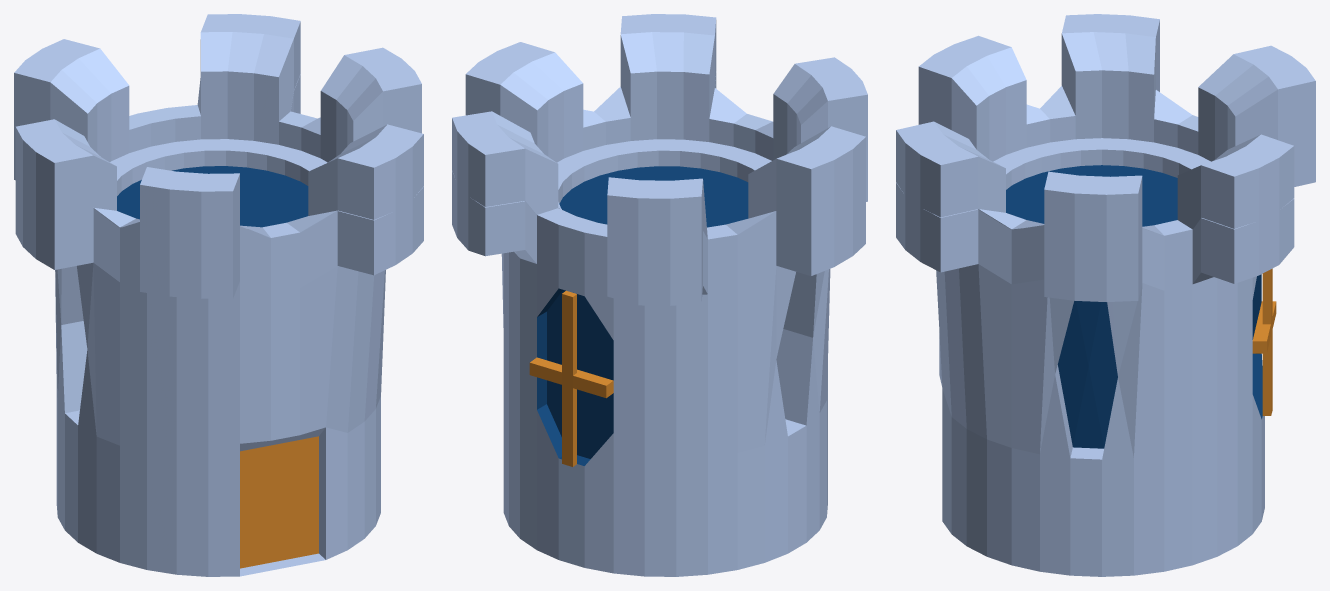
Rendered from tower_v2.fbx.
3 views of the same model, side by side, from view 1: azimuth 30°, elevation 25°; view 2: azimuth 150°, elevation 25°; view 3: azimuth 270°, elevation 25° (orthographic).
Visible parts, largest first — view 1: Cylinder; view 2: Cylinder; view 3: Cylinder.
Boxes of the visible parts, x1=… form: Cylinder: x1=14, y1=14, x2=423, y2=576; Cylinder: x1=452, y1=14, x2=867, y2=576; Cylinder: x1=896, y1=14, x2=1315, y2=576.
Size of the model in its own units: 500 by 520 by 490.
